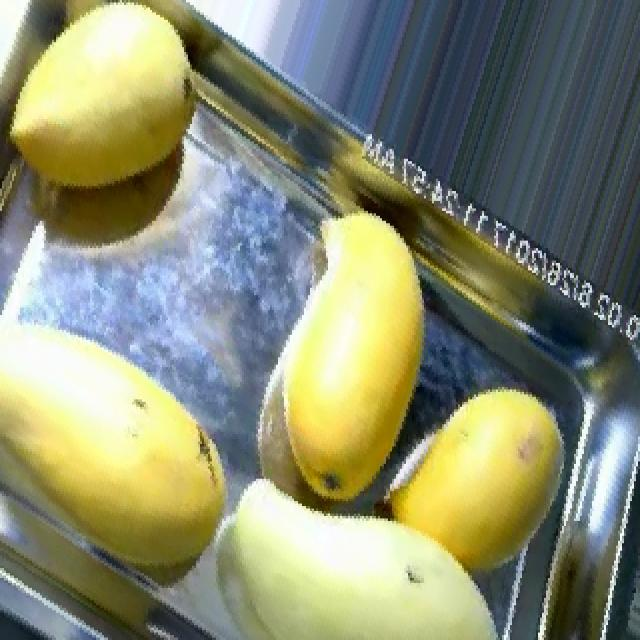mango: (0, 318, 226, 570), (228, 477, 500, 638), (280, 208, 424, 501), (8, 0, 196, 189)
